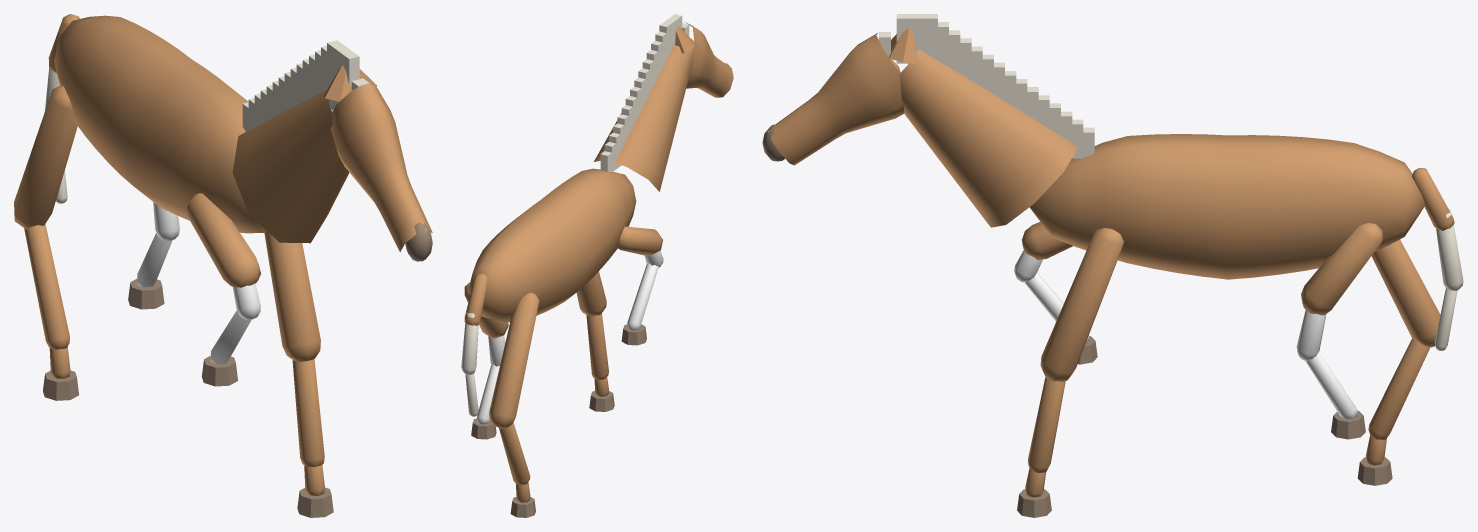
Rendered from riding-horse-trotting-chestnut.glb.
The picture shows the model from 3 angles, left to right: view 1: azimuth 30°, elevation 25°; view 2: azimuth 150°, elevation 25°; view 3: azimuth 270°, elevation 25°; orthographic projection. The views are drawn at different scales.
Visible parts, largest first — view 1: horse-trotting-chestnut; view 2: horse-trotting-chestnut; view 3: horse-trotting-chestnut.
Part boxes in pixels (x1,y1,x2,y2): horse-trotting-chestnut: (14, 14, 432, 517); horse-trotting-chestnut: (461, 14, 733, 517); horse-trotting-chestnut: (762, 14, 1463, 517).
Bounding box in the file's own units: 0.4689 × 2.17 × 2.89.
